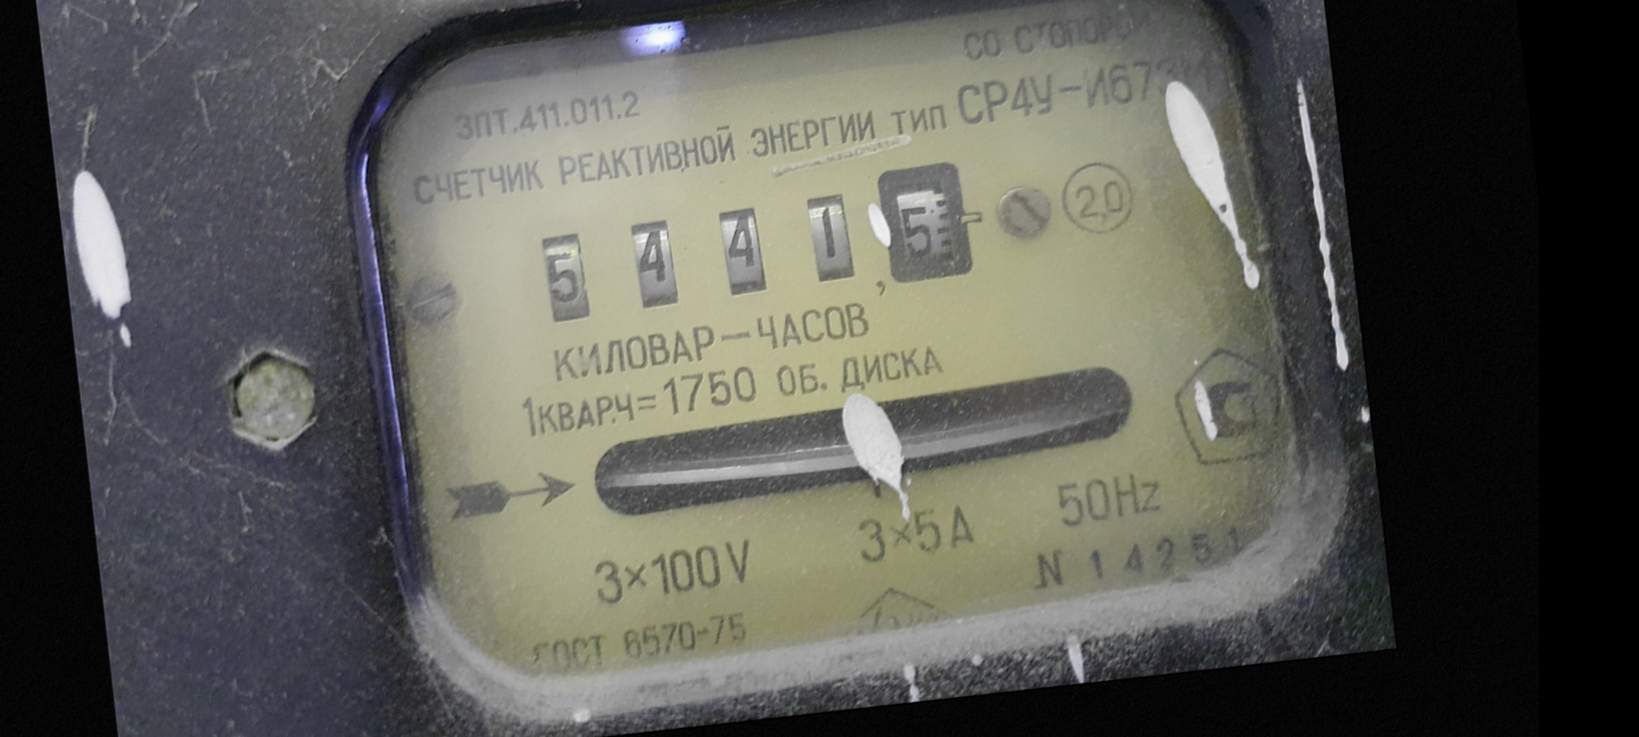1: (812, 204, 842, 264)
4: (718, 209, 761, 278), (630, 225, 672, 289)
5: (540, 248, 585, 309), (896, 200, 938, 266)
screen: (511, 137, 1000, 354)
